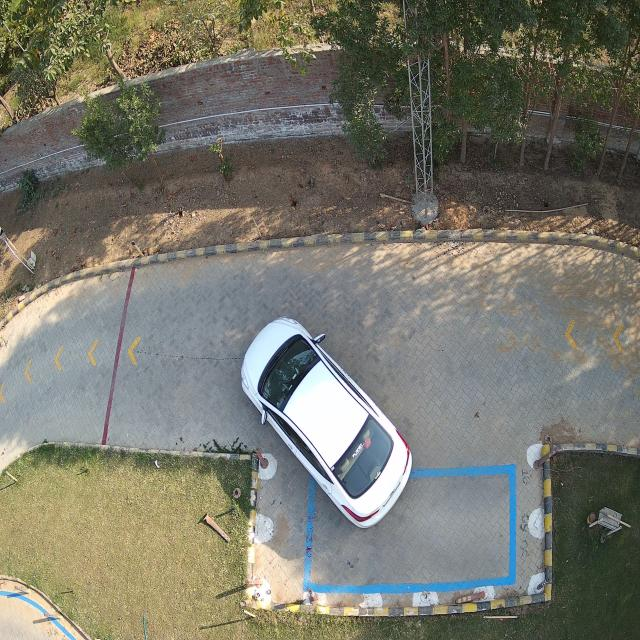car: (240, 318, 414, 529)
